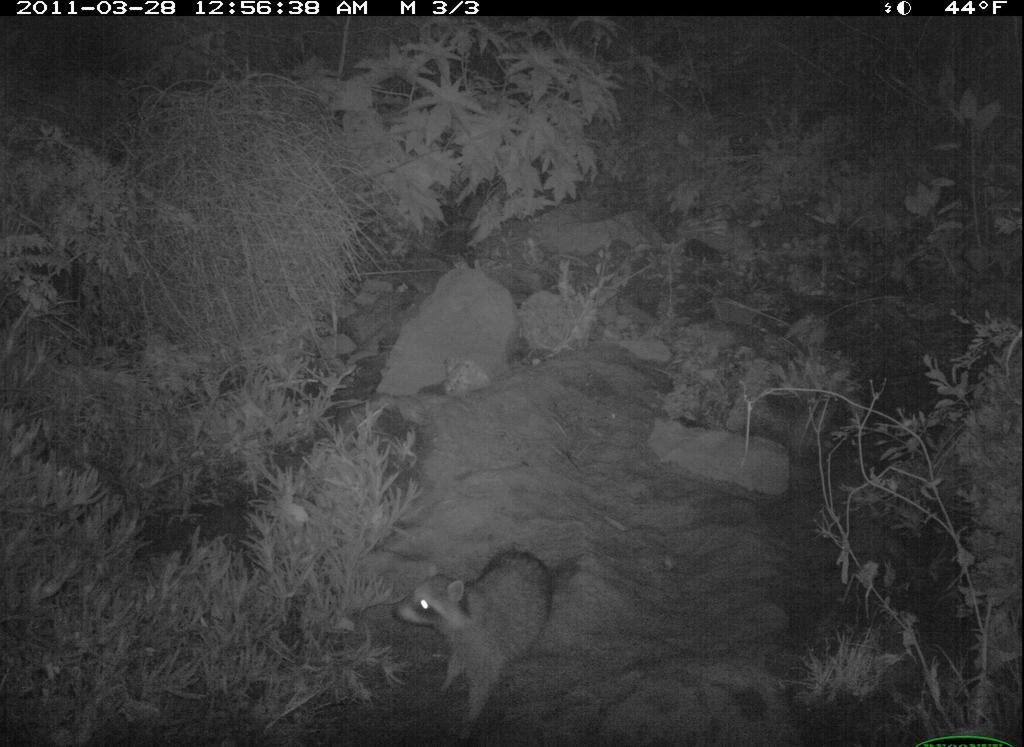raccoon: (376, 537, 589, 747)
